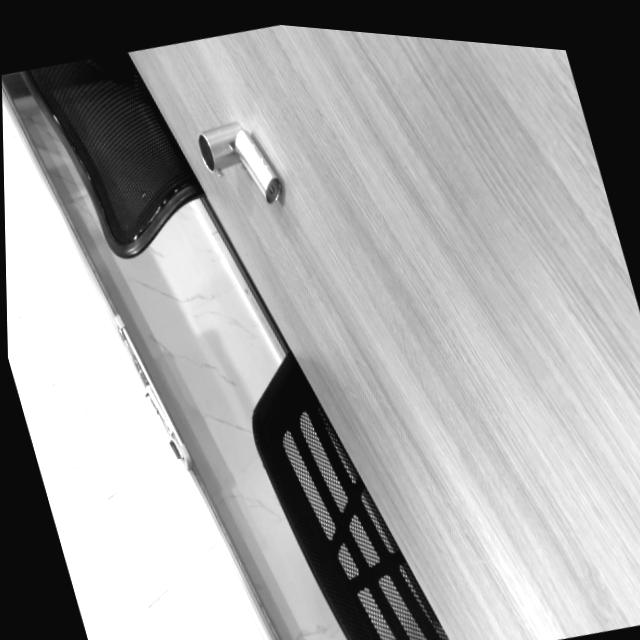Co_Lon: (192, 118, 256, 180)
Co_Nho: (225, 127, 287, 205)
